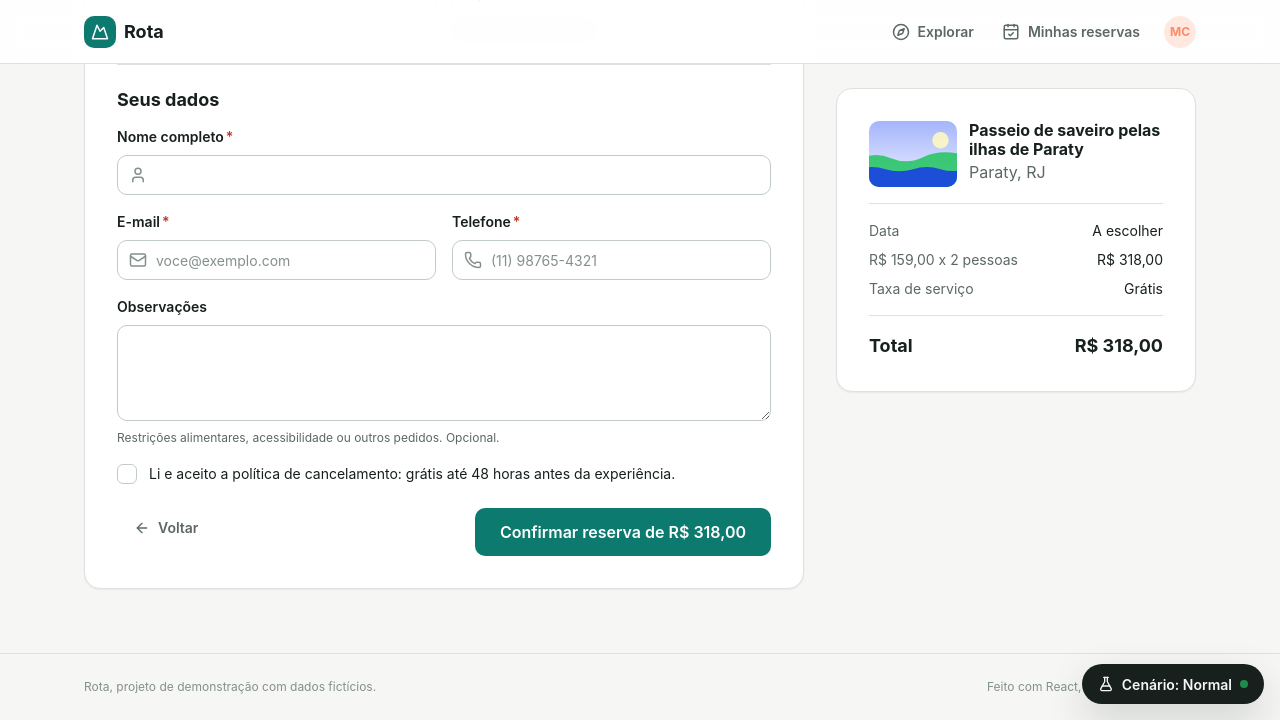
it: Fluxo de reserva › mostra erros de validação ao enviar vazio
(page scrolled)
Click the button "Confirmar reserva de R$ 318,00" at x=623, y=532, box [475,508,771,556]
(page scrolled)
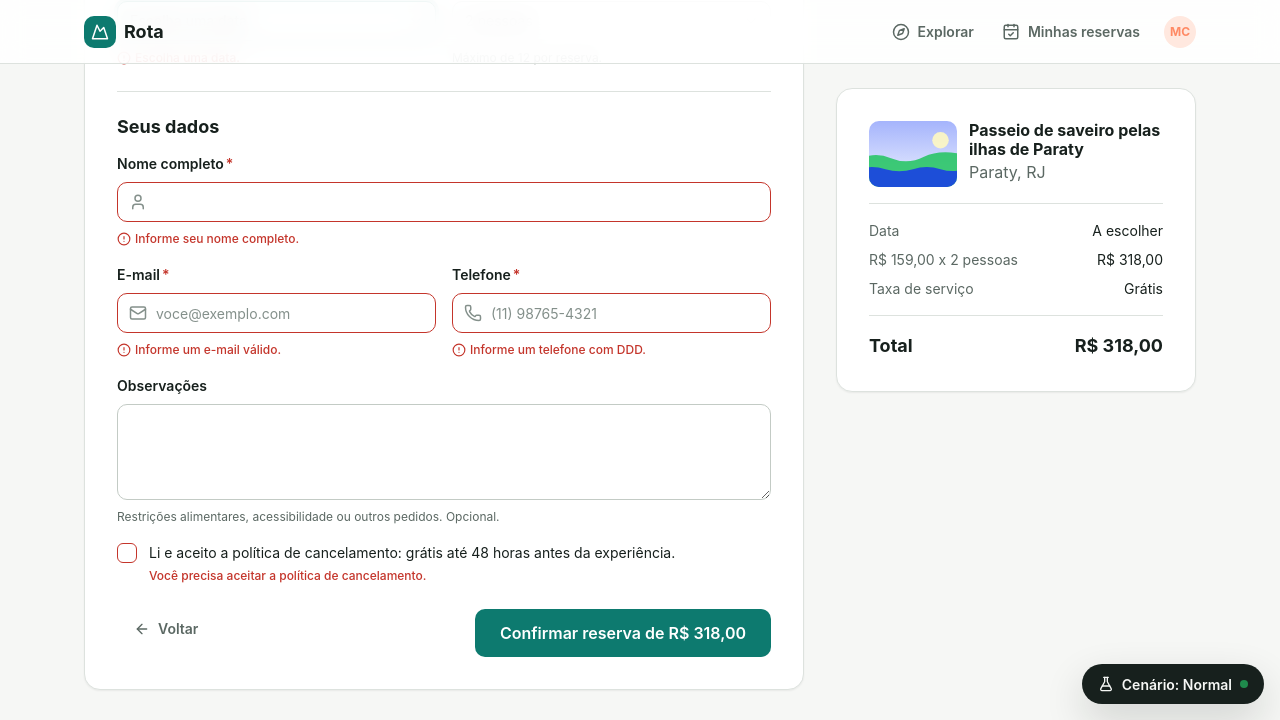
Now the text "Escolha uma data." is shown, box [117,50,240,65]
Now the text "Informe seu nome completo." is shown, box [117,231,299,246]
Now the text "Informe um e-mail válido." is shown, box [117,342,281,357]
